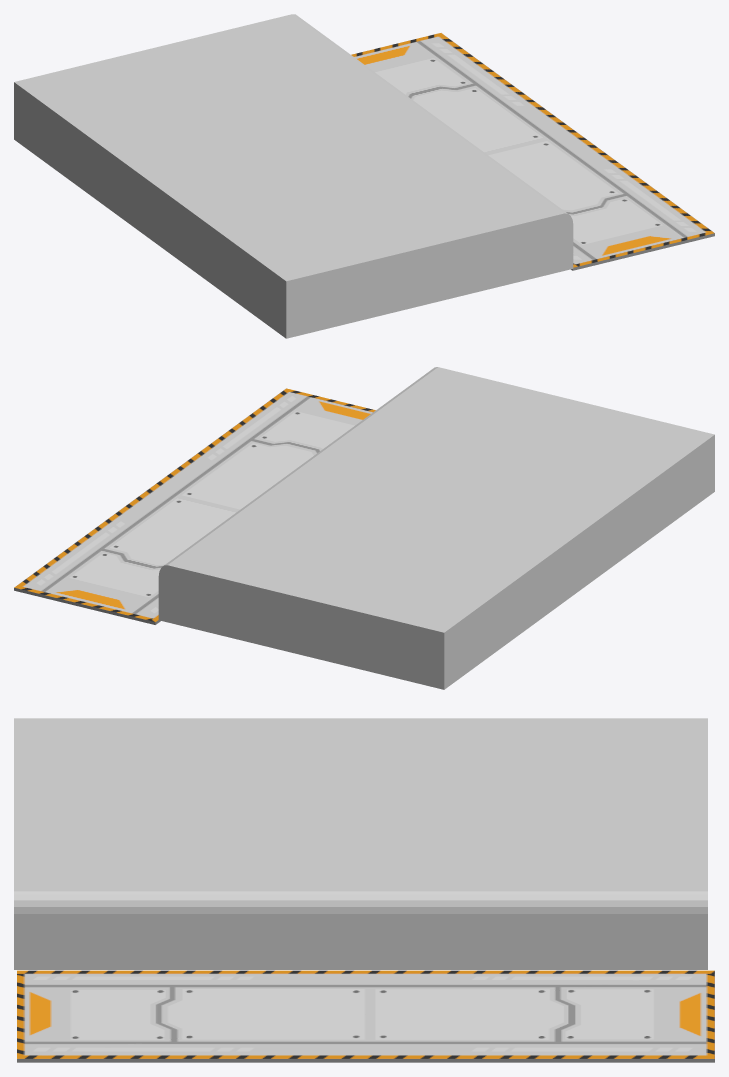
The model's file is Jembatan.dae.
3 renders of one model, top to bottom at view 1: azimuth 30°, elevation 25°; view 2: azimuth 150°, elevation 25°; view 3: azimuth 270°, elevation 25°, orthographic. The views are drawn at different scales.
Parts seen in each view (by area): view 1: Cube.019, Plane.032; view 2: Cube.019, Plane.032; view 3: Cube.019, Plane.032.
Boxes of the visible parts, box(x1,y1,x2,y2) form: Cube.019: box(14, 14, 573, 338); Plane.032: box(351, 33, 714, 270); Cube.019: box(158, 367, 714, 689); Plane.032: box(14, 388, 375, 624); Cube.019: box(14, 718, 707, 969); Plane.032: box(17, 970, 714, 1062).
Bounding box in the file's own units: 45.32 × 50.21 × 6.1.
2 materials, 1 textured.
